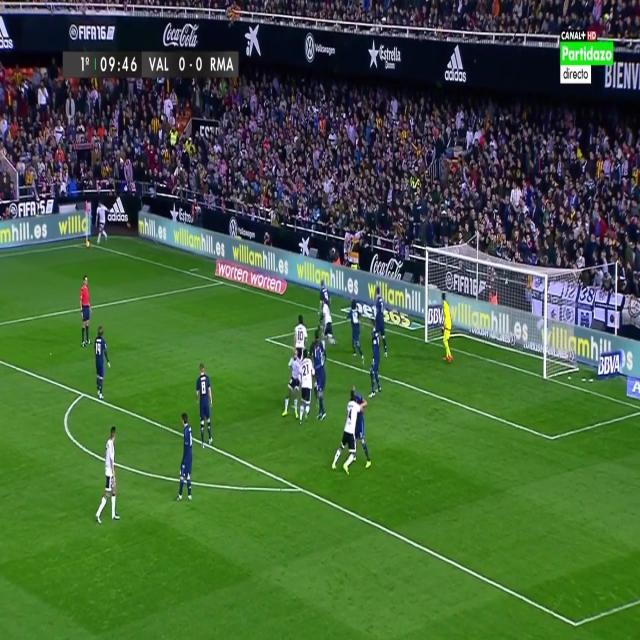Ball: (84, 239, 92, 249)
Goalkeeper: (439, 291, 452, 366)
Player: (94, 423, 121, 528), (332, 390, 358, 479), (194, 361, 216, 449), (174, 411, 194, 504), (354, 386, 375, 474), (345, 294, 367, 363), (297, 348, 316, 425), (281, 348, 299, 422), (94, 326, 111, 404), (372, 287, 389, 360), (367, 322, 382, 400), (290, 310, 310, 356), (319, 299, 336, 346), (318, 278, 332, 305)
Referee: (79, 271, 94, 352)
